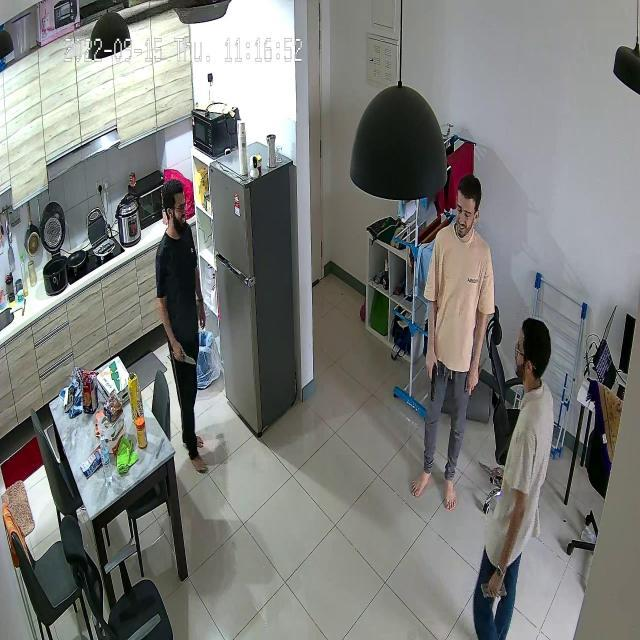Gun: (414, 347, 444, 410)
Knife: (161, 344, 203, 381)
